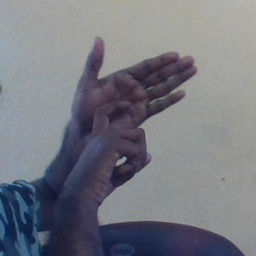R: (63, 33, 198, 189)
